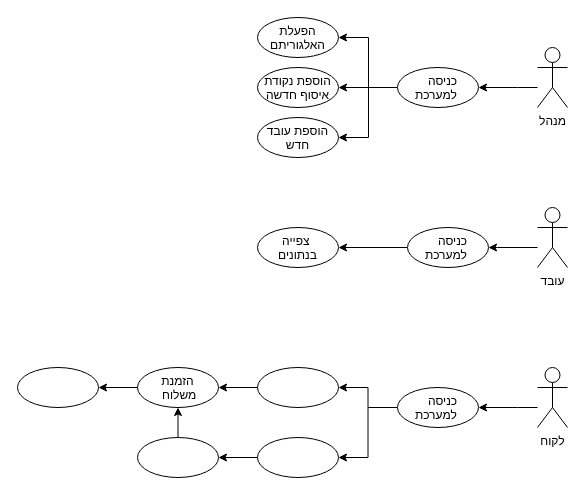
The diagram is 585 pixels wide and 495 high, and some of its shapes have lost their labels. The shapes that lost their labels are listed below. From the top down, each one's centre as x and y in pixels, then its label:
the point at 57,387: אישור
the point at 297,387: קיים במערכת
the point at 177,457: הכנסת פרטים אישיים
the point at 297,457: לא קיים במערכת
